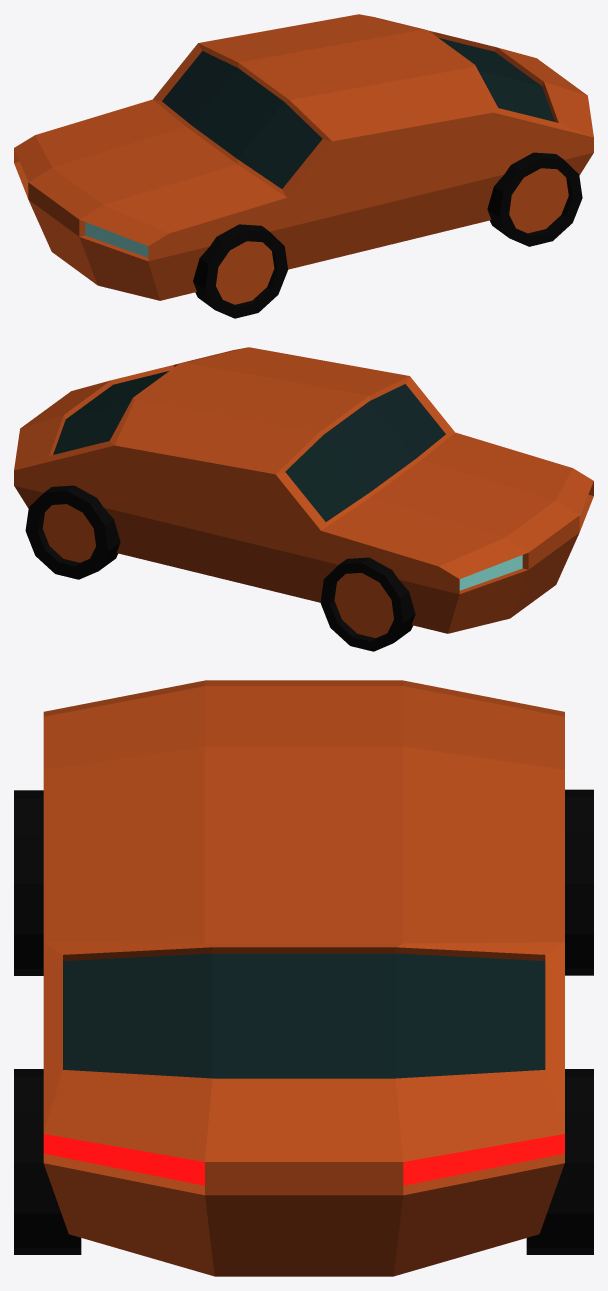
The model's file is car.fbx.
3 renders of one model, top to bottom at view 1: azimuth 30°, elevation 25°; view 2: azimuth 150°, elevation 25°; view 3: azimuth 270°, elevation 25°, orthographic. The views are drawn at different scales.
Parts seen in each view (by area): view 1: Cube.001; view 2: Cube.001; view 3: Cube.001.
Part boxes in pixels (box(x1,y1,x2,y2)): Cube.001: box(14, 14, 593, 318); Cube.001: box(14, 347, 593, 651); Cube.001: box(14, 680, 593, 1276).
Bounding box in the file's own units: 352 × 104 × 179.
